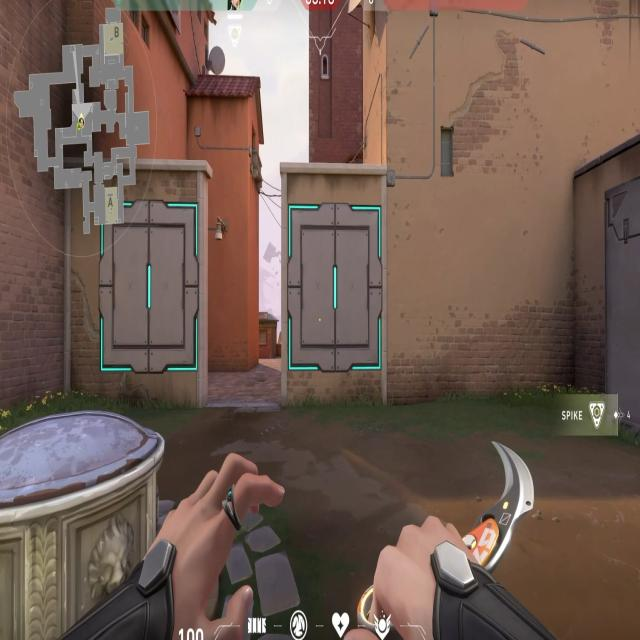Mid_Wall: (59, 156, 211, 415), (279, 164, 390, 408)
